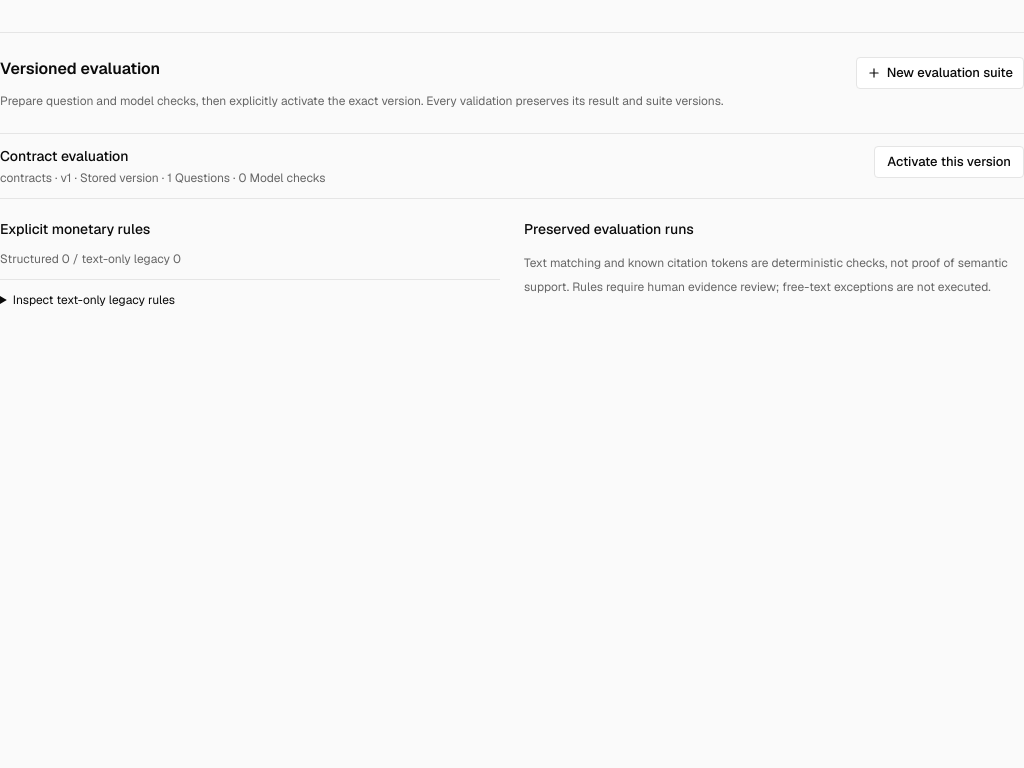
it: requires explicit confirmation of the entire evaluation version
This screenshot has width=1024, height=768.
Click the button "Activate this version" at (949, 162), box [874,146,1023,178]
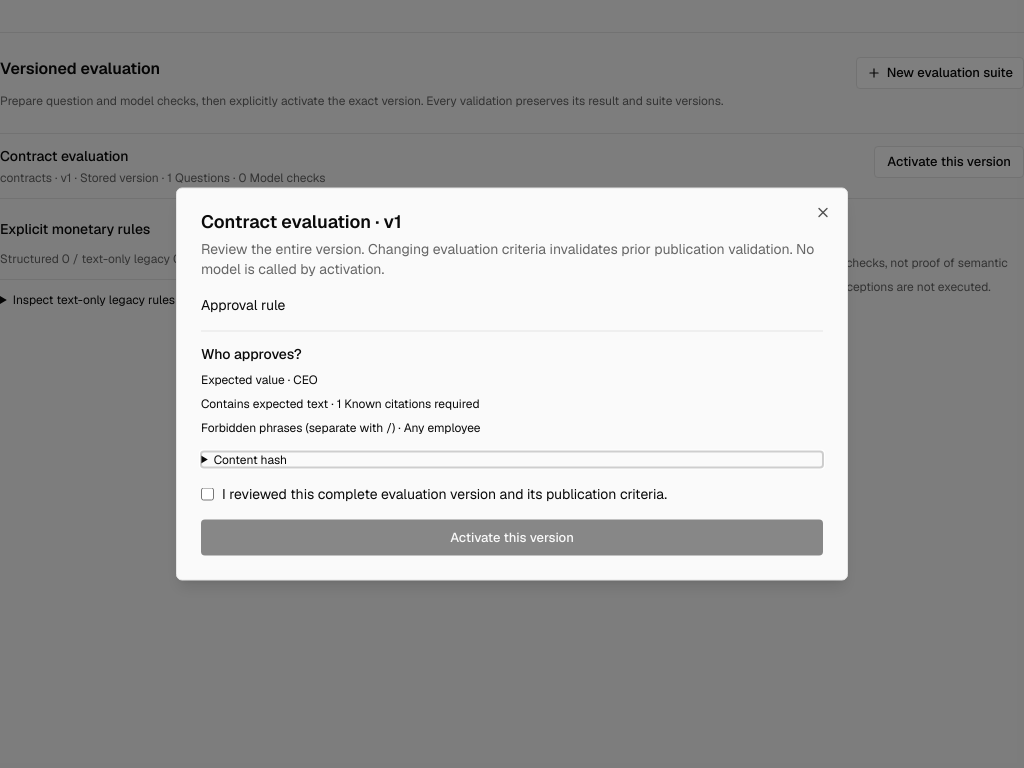
Expected: the heading "Who approves?" is shown, [201,344,302,362]
Expected: the button "Activate this version" is disabled, [201,520,823,556]
Click the checkbox at (208, 494), box [201,488,214,500]
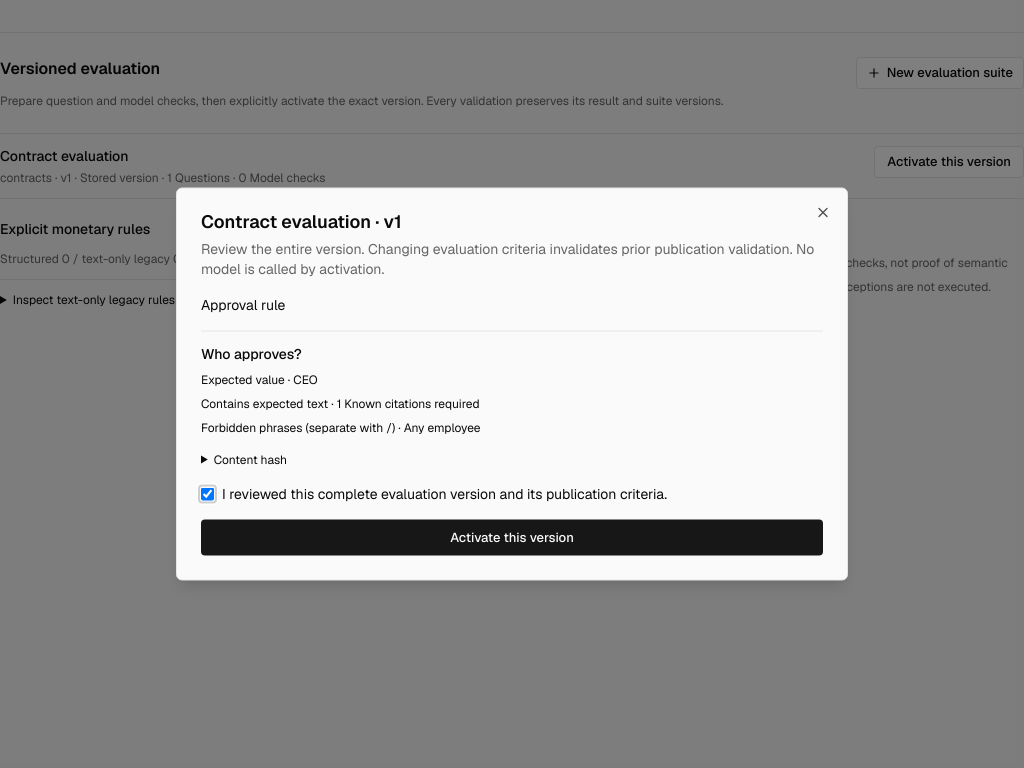
Click the button "Activate this version" at (512, 538), box [201,520,823,556]
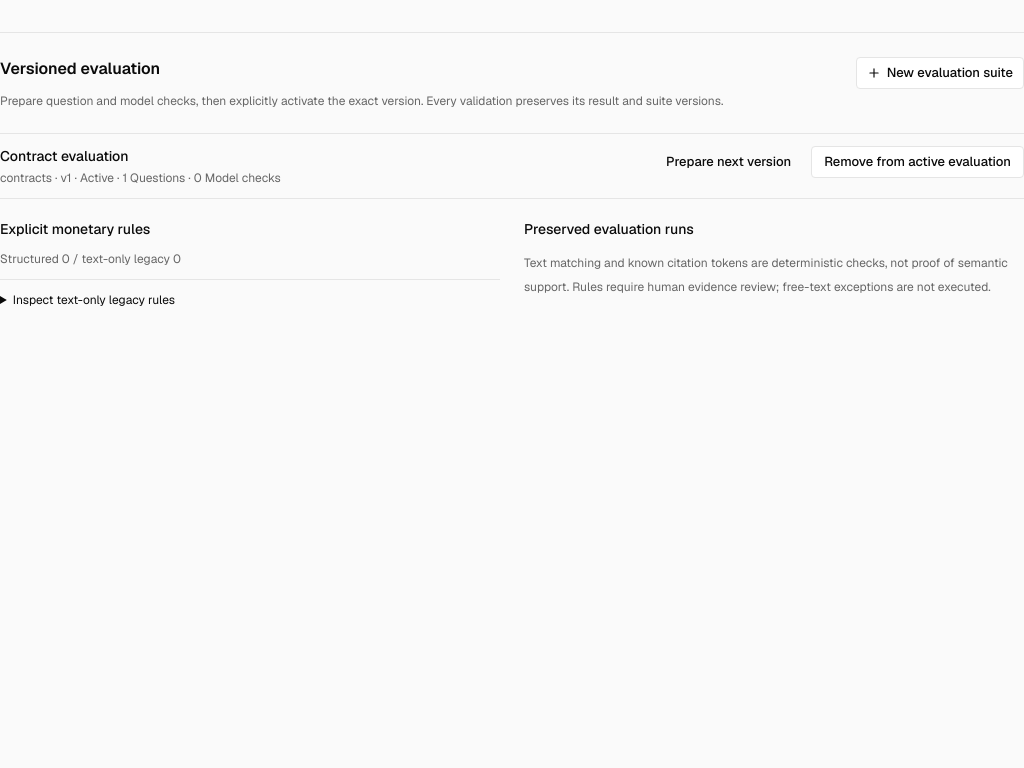
Expected: the button "Remove from active evaluation" is shown, [811,146,1023,178]
